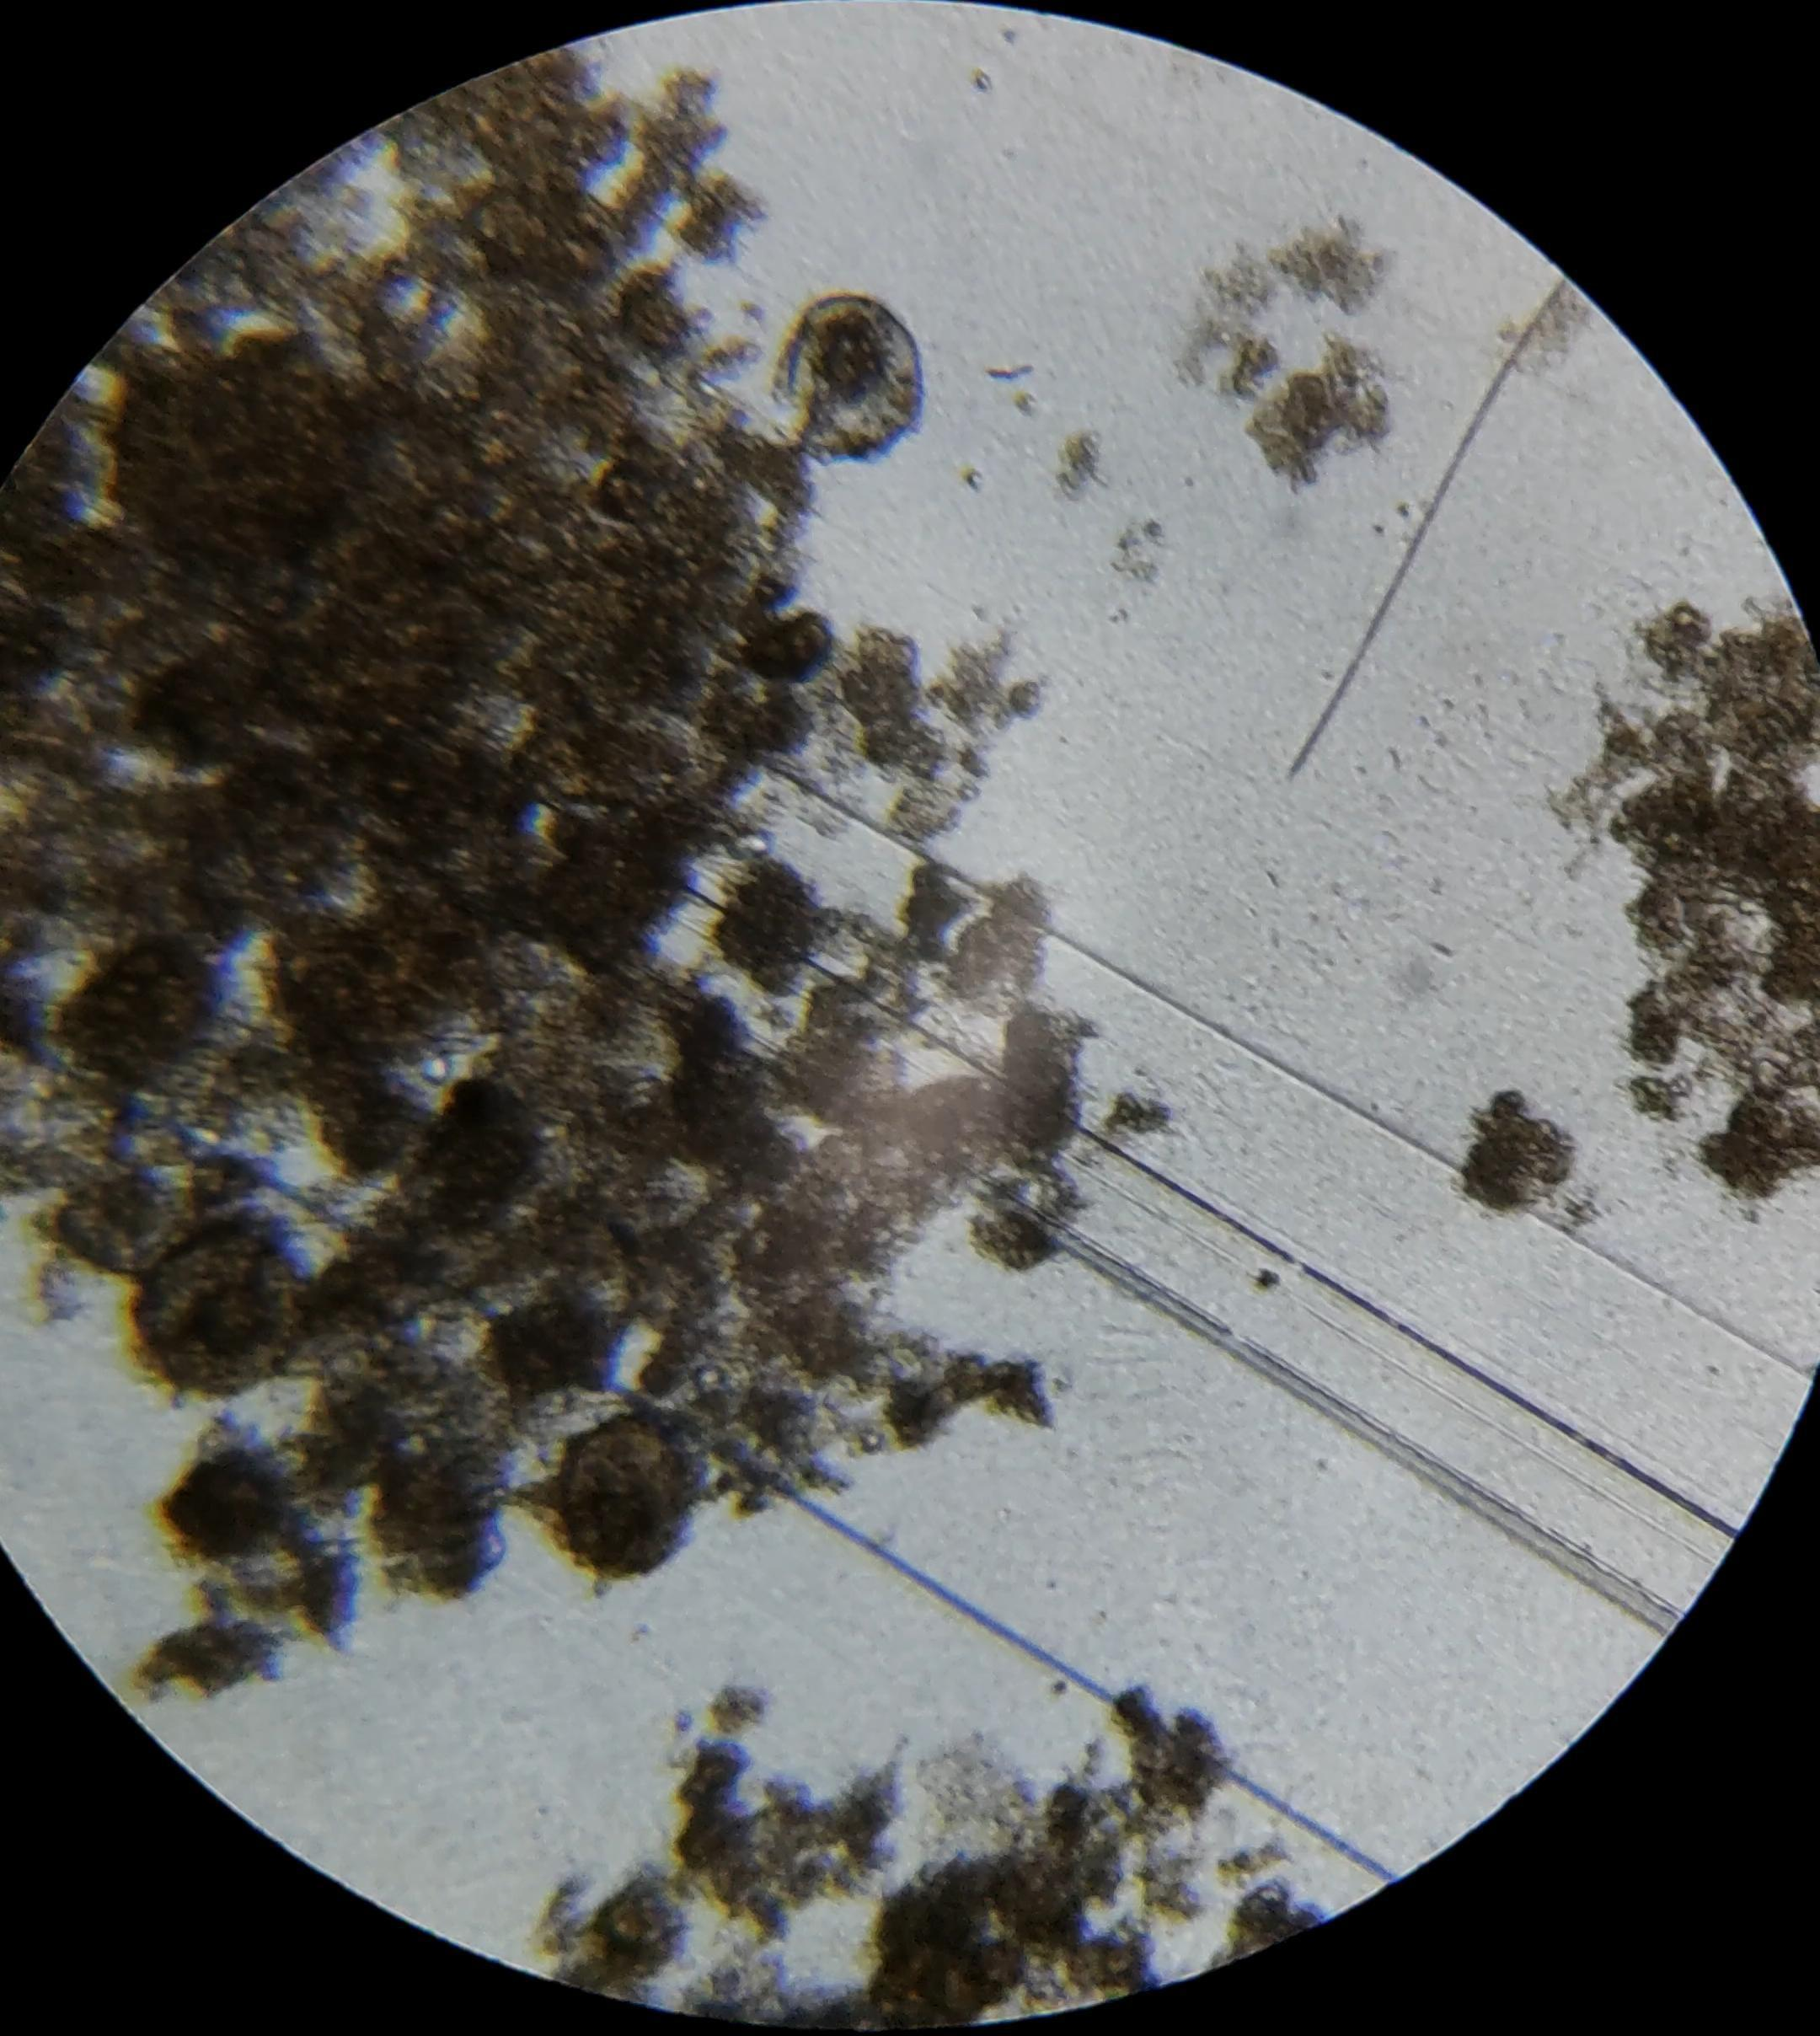Arcella: (148, 1235, 299, 1391), (792, 295, 919, 458), (566, 1416, 682, 1574)
